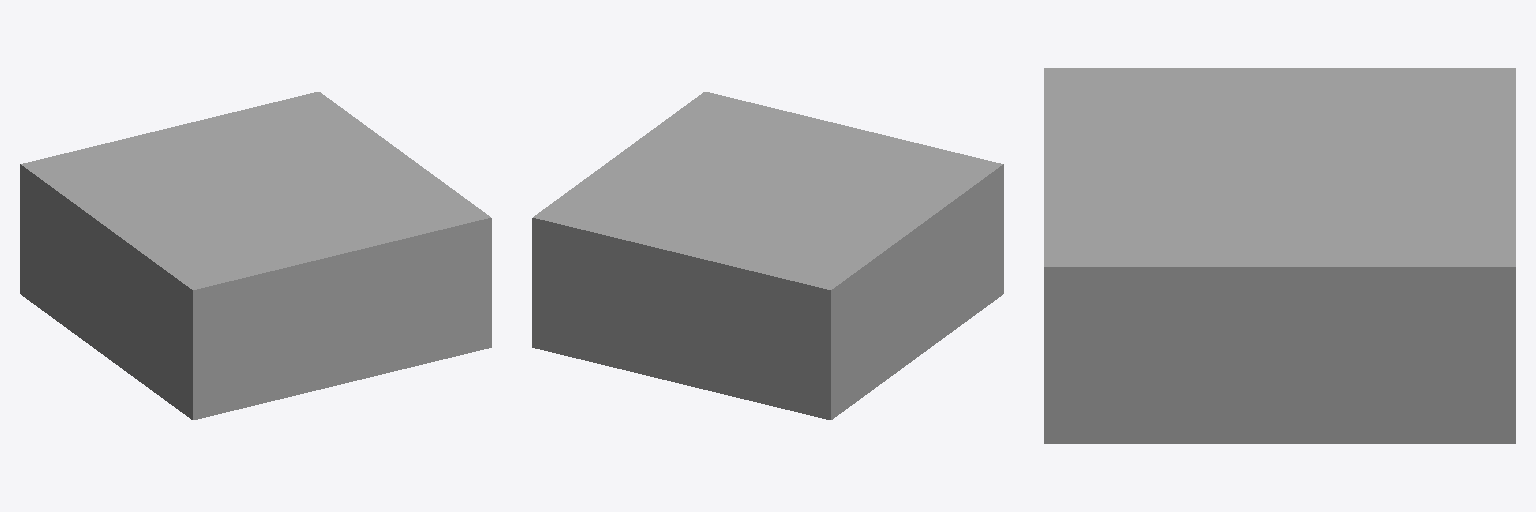
robot.urdf — anymal:
<?xml version="1.0" encoding="utf-8"?>
<!-- =================================================================================== -->
<!--   Copyright 2020 ANYbotics, https://www.anybotics.com                               -->
<!-- =================================================================================== -->
<!-- This file contains the description of the ANYmal C robot. -->
<robot name="anymal">
    <!-- Base link -->
    <link name="base">
        <visual>
            <origin rpy="0 0 0" xyz="0 0 0"/>
            <geometry>
                <mesh filename="../meshes/base.dae" scale="1.0 1.0 1.0"/>
            </geometry>
        </visual>
        <collision>
            <origin rpy="0 1.57079632679 0" xyz="0 0 0"/>
            <geometry>
                <cylinder length="0.75" radius="0.1"/>
            </geometry>
        </collision>
        <inertial>
            <origin rpy="0 0 0" xyz="-0.018 -0.002 0.024"/>
            <mass value="6.222"/>
            <inertia ixx="0.017938806" ixy="0.00387963" ixz="0.001500772" iyy="0.370887745" iyz="6.8963e-05" izz="0.372497653"/>
        </inertial>
    </link>
    <!-- Fixed joint base topshell -->
    <joint name="base_top_shell" type="fixed">
        <parent link="base"/>
        <child link="top_shell"/>
        <origin rpy="0 0 0" xyz="0 0 0"/>
    </joint>
    <!-- Top shell link -->
    <link name="top_shell">
        <visual>
            <origin rpy="0 0 0" xyz="0 0 0"/>
            <geometry>
                <mesh filename="../meshes/top_shell.dae" scale="1.0 1.0 1.0"/>
            </geometry>
        </visual>
        <inertial>
            <origin rpy="0 0 0" xyz="-0.00777 -0.00013 0.06523"/>
            <mass value="0.534"/>
            <inertia ixx="0.00664789486" ixy="1.247923e-05" ixz="0.00053990097" iyy="0.02587392411" iyz="3.7614e-07" izz="0.03152303792"/>
        </inertial>
    </link>
    <!-- Fixed joint base topshell -->
    <joint name="base_bottom_shell" type="fixed">
        <parent link="base"/>
        <child link="bottom_shell"/>
        <origin rpy="0 0 0" xyz="0 0 0"/>
    </joint>
    <!-- Bottom shell link -->
    <link name="bottom_shell">
        <visual>
            <origin rpy="0 0 0" xyz="0 0 0"/>
            <geometry>
                <mesh filename="../meshes/bottom_shell.dae" scale="1.0 1.0 1.0"/>
            </geometry>
        </visual>
        <inertial>
            <origin rpy="0 0 0" xyz="-0.00333 1e-05 -0.07705"/>
            <mass value="1.15"/>
            <inertia ixx="0.00927353677" ixy="5.41222e-06" ixz="9.039821e-05" iyy="0.06134388239" iyz="2.3042e-07" izz="0.06853531465"/>
        </inertial>
    </link>
    <!-- Fixed joint base remote -->
    <joint name="base_remote" type="fixed">
        <parent link="base"/>
        <child link="remote"/>
        <origin rpy="0 0 0" xyz="0 0 0"/>
    </joint>
    <!-- Remote link -->
    <link name="remote">
        <visual>
            <origin rpy="0 0 0" xyz="0 0 0"/>
            <geometry>
                <mesh filename="../meshes/remote.dae" scale="1.0 1.0 1.0"/>
            </geometry>
        </visual>
        <inertial>
            <origin rpy="0 0 0" xyz="-0.171 0.002 0.096"/>
            <mass value="0.3262"/>
            <inertia ixx="0.000528486" ixy="4.547e-05" ixz="1.10327e-05" iyy="0.001165035" iyz="7.4e-07" izz="0.00124026"/>
        </inertial>
    </link>
    <!-- Fixed joint base handle -->
    <joint name="base_handle" type="fixed">
        <parent link="base"/>
        <child link="handle"/>
        <origin rpy="0 0 0" xyz="0 0 0"/>
    </joint>
    <!-- Handle link -->
    <link name="handle">
        <visual>
            <origin rpy="0 0 0" xyz="0 0 0"/>
            <geometry>
                <mesh filename="../meshes/handle.dae" scale="1.0 1.0 1.0"/>
            </geometry>
        </visual>
        <inertial>
            <origin rpy="0 0 0" xyz="0.37801 0.0 0.1372"/>
            <mass value="0.314"/>
            <inertia ixx="0.001525739" ixy="0.0" ixz="6.272e-05" iyy="0.00071584" iyz="1e-09" izz="0.001164779"/>
        </inertial>
    </link>
    <!-- Fixed joint base face -->
    <joint name="base_face_front" type="fixed">
        <parent link="base"/>
        <child link="face_front"/>
        <origin rpy="0 0 -0.0" xyz="0.4145 0 0"/>
    </joint>
    <!-- Shell link -->
    <link name="face_front">
        <visual>
            <origin rpy="0 0 0" xyz="0 0 0"/>
            <geometry>
                <mesh filename="../meshes/face.dae" scale="1.0 1.0 1.0"/>
            </geometry>
        </visual>
        <inertial>
            <origin rpy="0 0 0" xyz="0.042 -0.001 0.004"/>
            <mass value="0.73"/>
            <inertia ixx="0.005238611" ixy="1.7609e-05" ixz="7.2167e-05" iyy="0.002643098" iyz="1.9548e-05" izz="0.004325938"/>
        </inertial>
    </link>
    <!-- Camera joint -->
    <!-- Is located between the two back screw holes at ground level. -->
    <joint name="face_front_to_depth_camera_front_camera" type="fixed">
        <parent link="face_front"/>
        <child link="depth_camera_front_camera"/>
        <origin rpy="0.0 0.523598775598 0" xyz="0.04715 0.0 -0.0292"/>
    </joint>
    <!-- Camera link -->
    <link name="depth_camera_front_camera">
        <visual>
            <origin rpy="0 0 0" xyz="0.0 0.0 0.0"/>
            <geometry>
                <mesh filename="../meshes/depth_camera.dae" scale="1.0 1.0 1.0"/>
            </geometry>
        </visual>
        <inertial>
            <origin rpy="0 0 0" xyz="-0.021 -0.002 0.025"/>
            <mass value="0.16043"/>
            <inertia ixx="0.000637051" ixy="0.000484569" ixz="0.000424211" iyy="0.000929402" iyz="5.138e-06" izz="0.000484569"/>
        </inertial>
    </link>
    <!-- Camera parent joint -->
    <!-- Frame lies on the left ir camera according to any_realsense2_camera urdf. -->
    <joint name="depth_camera_front_camera_to_camera_parent" type="fixed">
        <parent link="depth_camera_front_camera"/>
        <child link="depth_camera_front_camera_parent"/>
        <origin rpy="0.0 0.0 0.0" xyz="0.0255 0.0175 0.0"/>
    </joint>
    <!-- Camera parent link -->
    <link name="depth_camera_front_camera_parent"/>
    <!-- Depth optical frame joint -->
    <joint name="depth_camera_front_camera_parent_to_depth_optical_frame" type="fixed">
        <parent link="depth_camera_front_camera_parent"/>
        <child link="depth_camera_front_depth_optical_frame"/>
        <origin rpy="-1.57079632679 0.0 -1.57079632679" xyz="0.0 0.0 0.0"/>
    </joint>
    <!-- Depth optical frame link -->
    <link name="depth_camera_front_depth_optical_frame"/>
    <!-- Camera color frame joint -->
    <joint name="depth_camera_front_camera_parent_to_color_frame" type="fixed">
        <parent link="depth_camera_front_camera_parent"/>
        <child link="depth_camera_front_color_frame"/>
        <origin rpy="0 0 0" xyz="0 0.015 0"/>
    </joint>
    <!-- Camera color frame link -->
    <link name="depth_camera_front_color_frame"/>
    <!-- Camera color optical joint -->
    <joint name="depth_camera_front_color_frame_to_color_optical_frame" type="fixed">
        <parent link="depth_camera_front_color_frame"/>
        <child link="depth_camera_front_color_optical_frame"/>
        <origin rpy="-1.57079632679 0.0 -1.57079632679" xyz="0.0 0.0 0.0"/>
    </joint>
    <!-- Camera color optical link -->
    <link name="depth_camera_front_color_optical_frame"/>
    <!-- Camera joint -->
    <!-- Is located in the center of the mounting points. -->
    <joint name="face_front_to_wide_angle_camera_front_camera" type="fixed">
        <parent link="face_front"/>
        <child link="wide_angle_camera_front_camera"/>
        <origin rpy="0 0 0" xyz="0.09850 0.0 0.01497"/>
    </joint>
    <!-- Camera link -->
    <link name="wide_angle_camera_front_camera">
        <visual>
            <origin rpy="0 0 0" xyz="0.0 0.0 0.0"/>
            <geometry>
                <mesh filename="../meshes/wide_angle_camera.dae" scale="1.0 1.0 1.0"/>
            </geometry>
        </visual>
        <inertial>
            <origin rpy="0 0 0" xyz="-0.053 -0.001 0.025"/>
            <mass value="0.287"/>
            <inertia ixx="0.000559232" ixy="1.6875e-05" ixz="0.000423761" iyy="0.000946504" iyz="1.3234e-07" izz="0.000493052"/>
        </inertial>
    </link>
    <!-- Camera parent joint -->
    <joint name="wide_angle_camera_front_camera_to_camera_parent" type="fixed">
        <parent link="wide_angle_camera_front_camera"/>
        <child link="wide_angle_camera_front_camera_parent"/>
        <origin rpy="-1.57079632679 0.0 -1.57079632679" xyz="0.0 0.0 0.0"/>
    </joint>
    <!-- Camera parent link -->
    <link name="wide_angle_camera_front_camera_parent"/>
    <!-- Fixed joint base face -->
    <joint name="base_face_rear" type="fixed">
        <parent link="base"/>
        <child link="face_rear"/>
        <origin rpy="0 0 3.14159265359" xyz="-0.4145 0 0"/>
    </joint>
    <!-- Shell link -->
    <link name="face_rear">
        <visual>
            <origin rpy="0 0 0" xyz="0 0 0"/>
            <geometry>
                <mesh filename="../meshes/face.dae" scale="1.0 1.0 1.0"/>
            </geometry>
        </visual>
        <inertial>
            <origin rpy="0 0 0" xyz="0.042 -0.001 0.004"/>
            <mass value="0.73"/>
            <inertia ixx="0.005238611" ixy="1.7609e-05" ixz="7.2167e-05" iyy="0.002643098" iyz="1.9548e-05" izz="0.004325938"/>
        </inertial>
    </link>
    <!-- Camera joint -->
    <!-- Is located between the two back screw holes at ground level. -->
    <joint name="face_rear_to_depth_camera_rear_camera" type="fixed">
        <parent link="face_rear"/>
        <child link="depth_camera_rear_camera"/>
        <origin rpy="0.0 0.523598775598 0" xyz="0.04715 0.0 -0.0292"/>
    </joint>
    <!-- Camera link -->
    <link name="depth_camera_rear_camera">
        <visual>
            <origin rpy="0 0 0" xyz="0.0 0.0 0.0"/>
            <geometry>
                <mesh filename="../meshes/depth_camera.dae" scale="1.0 1.0 1.0"/>
            </geometry>
        </visual>
        <inertial>
            <origin rpy="0 0 0" xyz="-0.021 -0.002 0.025"/>
            <mass value="0.16043"/>
            <inertia ixx="0.000637051" ixy="0.000484569" ixz="0.000424211" iyy="0.000929402" iyz="5.138e-06" izz="0.000484569"/>
        </inertial>
    </link>
    <!-- Camera parent joint -->
    <!-- Frame lies on the left ir camera according to any_realsense2_camera urdf. -->
    <joint name="depth_camera_rear_camera_to_camera_parent" type="fixed">
        <parent link="depth_camera_rear_camera"/>
        <child link="depth_camera_rear_camera_parent"/>
        <origin rpy="0.0 0.0 0.0" xyz="0.0255 0.0175 0.0"/>
    </joint>
    <!-- Camera parent link -->
    <link name="depth_camera_rear_camera_parent"/>
    <!-- Depth optical frame joint -->
    <joint name="depth_camera_rear_camera_parent_to_depth_optical_frame" type="fixed">
        <parent link="depth_camera_rear_camera_parent"/>
        <child link="depth_camera_rear_depth_optical_frame"/>
        <origin rpy="-1.57079632679 0.0 -1.57079632679" xyz="0.0 0.0 0.0"/>
    </joint>
    <!-- Depth optical frame link -->
    <link name="depth_camera_rear_depth_optical_frame"/>
    <!-- Camera color frame joint -->
    <joint name="depth_camera_rear_camera_parent_to_color_frame" type="fixed">
        <parent link="depth_camera_rear_camera_parent"/>
        <child link="depth_camera_rear_color_frame"/>
        <origin rpy="0 0 0" xyz="0 0.015 0"/>
    </joint>
    <!-- Camera color frame link -->
    <link name="depth_camera_rear_color_frame"/>
    <!-- Camera color optical joint -->
    <joint name="depth_camera_rear_color_frame_to_color_optical_frame" type="fixed">
        <parent link="depth_camera_rear_color_frame"/>
        <child link="depth_camera_rear_color_optical_frame"/>
        <origin rpy="-1.57079632679 0.0 -1.57079632679" xyz="0.0 0.0 0.0"/>
    </joint>
    <!-- Camera color optical link -->
    <link name="depth_camera_rear_color_optical_frame"/>
    <!-- Camera joint -->
    <!-- Is located in the center of the mounting points. -->
    <joint name="face_rear_to_wide_angle_camera_rear_camera" type="fixed">
        <parent link="face_rear"/>
        <child link="wide_angle_camera_rear_camera"/>
        <origin rpy="0 0 0" xyz="0.09850 0.0 0.01497"/>
    </joint>
    <!-- Camera link -->
    <link name="wide_angle_camera_rear_camera">
        <visual>
            <origin rpy="0 0 0" xyz="0.0 0.0 0.0"/>
            <geometry>
                <mesh filename="../meshes/wide_angle_camera.dae" scale="1.0 1.0 1.0"/>
            </geometry>
        </visual>
        <inertial>
            <origin rpy="0 0 0" xyz="-0.053 -0.001 0.025"/>
            <mass value="0.287"/>
            <inertia ixx="0.000559232" ixy="1.6875e-05" ixz="0.000423761" iyy="0.000946504" iyz="1.3234e-07" izz="0.000493052"/>
        </inertial>
    </link>
    <!-- Camera parent joint -->
    <joint name="wide_angle_camera_rear_camera_to_camera_parent" type="fixed">
        <parent link="wide_angle_camera_rear_camera"/>
        <child link="wide_angle_camera_rear_camera_parent"/>
        <origin rpy="-1.57079632679 0.0 -1.57079632679" xyz="0.0 0.0 0.0"/>
    </joint>
    <!-- Camera parent link -->
    <link name="wide_angle_camera_rear_camera_parent"/>
    <!-- Fixed joint base battery -->
    <joint name="base_battery" type="fixed">
        <parent link="base"/>
        <child link="battery"/>
        <origin rpy="0 0 0" xyz="0 0 0"/>
    </joint>
    <!-- Shell link -->
    <link name="battery">
        <visual>
            <origin rpy="0 0 0" xyz="0 0 0"/>
            <geometry>
                <mesh filename="../meshes/battery.dae" scale="1.0 1.0 1.0"/>
            </geometry>
        </visual>
        <inertial>
            <origin rpy="0 0 0" xyz="-0.00067 -0.00023 -0.03362"/>
            <mass value="5.53425"/>
            <inertia ixx="0.00749474794" ixy="0.00016686282" ixz="7.82763e-05" iyy="0.0722338913" iyz="1.42902e-06" izz="0.07482717535"/>
        </inertial>
    </link>
    <!-- Fixed joint to add docking  -->
    <joint name="base_to_docking_hatch_cover" type="fixed">
        <parent link="base"/>
        <child link="docking_hatch_cover"/>
        <origin rpy="0 0 0" xyz="0.343 0.0 -0.07"/>
    </joint>
    <!-- Hatch cover link -->
    <link name="docking_hatch_cover">
        <!--  TODO(fgiraldez): add visual    -->
        <inertial>
            <origin rpy="0 0 0" xyz="-0.003 0.0 0.005"/>
            <mass value="0.065"/>
            <inertia ixx="0.00063283" ixy="0.0" ixz="3.45e-07" iyy="0.00110971" iyz="0.0" izz="0.00171883"/>
        </inertial>
    </link>
    <link name="imu_link">
        <visual>
            <origin rpy="0 0 0" xyz="0 0 0.005"/>
            <geometry>
                <box size="0.024 0.024 0.01"/>
            </geometry>
            <material name="orange"/>
        </visual>
        <inertial>
            <mass value="0.01"/>
            <origin xyz="0 0 0"/>
            <inertia ixx="5.63333333333e-07" ixy="0.0" ixz="0.0" iyy="9.6e-07" iyz="0.0" izz="5.63333333333e-07"/>
        </inertial>
    </link>
    <joint name="imu_joint" type="fixed">
        <parent link="base"/>
        <child link="imu_link"/>
        <origin rpy="0.0 0.0 1.57079632679" xyz="0.2488 0.00835 0.04628"/>
    </joint>
    <!-- Camera joint -->
    <!-- Is located between the two back screw holes at ground level. -->
    <joint name="base_to_depth_camera_left_camera" type="fixed">
        <parent link="base"/>
        <child link="depth_camera_left_camera"/>
        <origin rpy="0.0 0.523598775598 1.57079632679" xyz="0.0 0.07646 0.02905"/>
    </joint>
    <!-- Camera link -->
    <link name="depth_camera_left_camera">
        <visual>
            <origin rpy="0 0 0" xyz="0.0 0.0 0.0"/>
            <geometry>
                <mesh filename="../meshes/depth_camera.dae" scale="1.0 1.0 1.0"/>
            </geometry>
        </visual>
        <inertial>
            <origin rpy="0 0 0" xyz="-0.021 -0.002 0.025"/>
            <mass value="0.16043"/>
            <inertia ixx="0.000637051" ixy="0.000484569" ixz="0.000424211" iyy="0.000929402" iyz="5.138e-06" izz="0.000484569"/>
        </inertial>
    </link>
    <!-- Camera parent joint -->
    <!-- Frame lies on the left ir camera according to any_realsense2_camera urdf. -->
    <joint name="depth_camera_left_camera_to_camera_parent" type="fixed">
        <parent link="depth_camera_left_camera"/>
        <child link="depth_camera_left_camera_parent"/>
        <origin rpy="0.0 0.0 0.0" xyz="0.0255 0.0175 0.0"/>
    </joint>
    <!-- Camera parent link -->
    <link name="depth_camera_left_camera_parent"/>
    <!-- Depth optical frame joint -->
    <joint name="depth_camera_left_camera_parent_to_depth_optical_frame" type="fixed">
        <parent link="depth_camera_left_camera_parent"/>
        <child link="depth_camera_left_depth_optical_frame"/>
        <origin rpy="-1.57079632679 0.0 -1.57079632679" xyz="0.0 0.0 0.0"/>
    </joint>
    <!-- Depth optical frame link -->
    <link name="depth_camera_left_depth_optical_frame"/>
    <!-- Camera color frame joint -->
    <joint name="depth_camera_left_camera_parent_to_color_frame" type="fixed">
        <parent link="depth_camera_left_camera_parent"/>
        <child link="depth_camera_left_color_frame"/>
        <origin rpy="0 0 0" xyz="0 0.015 0"/>
    </joint>
    <!-- Camera color frame link -->
    <link name="depth_camera_left_color_frame"/>
    <!-- Camera color optical joint -->
    <joint name="depth_camera_left_color_frame_to_color_optical_frame" type="fixed">
        <parent link="depth_camera_left_color_frame"/>
        <child link="depth_camera_left_color_optical_frame"/>
        <origin rpy="-1.57079632679 0.0 -1.57079632679" xyz="0.0 0.0 0.0"/>
    </joint>
    <!-- Camera color optical link -->
    <link name="depth_camera_left_color_optical_frame"/>
    <!-- Camera joint -->
    <!-- Is located between the two back screw holes at ground level. -->
    <joint name="base_to_depth_camera_right_camera" type="fixed">
        <parent link="base"/>
        <child link="depth_camera_right_camera"/>
        <origin rpy="0.0 0.523598775598 -1.57079632679" xyz="0.0 -0.07646 0.02905"/>
    </joint>
    <!-- Camera link -->
    <link name="depth_camera_right_camera">
        <visual>
            <origin rpy="0 0 0" xyz="0.0 0.0 0.0"/>
            <geometry>
                <mesh filename="../meshes/depth_camera.dae" scale="1.0 1.0 1.0"/>
            </geometry>
        </visual>
        <inertial>
            <origin rpy="0 0 0" xyz="-0.021 -0.002 0.025"/>
            <mass value="0.16043"/>
            <inertia ixx="0.000637051" ixy="0.000484569" ixz="0.000424211" iyy="0.000929402" iyz="5.138e-06" izz="0.000484569"/>
        </inertial>
    </link>
    <!-- Camera parent joint -->
    <!-- Frame lies on the left ir camera according to any_realsense2_camera urdf. -->
    <joint name="depth_camera_right_camera_to_camera_parent" type="fixed">
        <parent link="depth_camera_right_camera"/>
        <child link="depth_camera_right_camera_parent"/>
        <origin rpy="0.0 0.0 0.0" xyz="0.0255 0.0175 0.0"/>
    </joint>
    <!-- Camera parent link -->
    <link name="depth_camera_right_camera_parent"/>
    <!-- Depth optical frame joint -->
    <joint name="depth_camera_right_camera_parent_to_depth_optical_frame" type="fixed">
        <parent link="depth_camera_right_camera_parent"/>
        <child link="depth_camera_right_depth_optical_frame"/>
        <origin rpy="-1.57079632679 0.0 -1.57079632679" xyz="0.0 0.0 0.0"/>
    </joint>
    <!-- Depth optical frame link -->
    <link name="depth_camera_right_depth_optical_frame"/>
    <!-- Camera color frame joint -->
    <joint name="depth_camera_right_camera_parent_to_color_frame" type="fixed">
        <parent link="depth_camera_right_camera_parent"/>
        <child link="depth_camera_right_color_frame"/>
        <origin rpy="0 0 0" xyz="0 0.015 0"/>
    </joint>
    <!-- Camera color frame link -->
    <link name="depth_camera_right_color_frame"/>
    <!-- Camera color optical joint -->
    <joint name="depth_camera_right_color_frame_to_color_optical_frame" type="fixed">
        <parent link="depth_camera_right_color_frame"/>
        <child link="depth_camera_right_color_optical_frame"/>
        <origin rpy="-1.57079632679 0.0 -1.57079632679" xyz="0.0 0.0 0.0"/>
    </joint>
    <!-- Camera color optical link -->
    <link name="depth_camera_right_color_optical_frame"/>
    <!-- parent to cage joint, located between mounting plate on trunk and the cage -->
    <joint name="base_to_lidar_cage" type="fixed">
        <parent link="base"/>
        <child link="lidar_cage"/>
        <origin rpy="0 0 0" xyz="-0.364 0.0 0.0735"/>
    </joint>
    <!-- Velodyne cage link -->
    <link name="lidar_cage">
        <visual>
            <origin rpy="0.0 0.0 0.0" xyz="0.0 0.0 0.0"/>
            <geometry>
                <mesh filename="../meshes/lidar_cage.dae" scale="1.0 1.0 1.0"/>
            </geometry>
        </visual>
        <inertial>
            <origin rpy="0.0 0.0 0.0" xyz="0.002 0.0 0.099"/>
            <mass value="0.545"/>
            <inertia ixx="0.003156254" ixy="0.0" ixz="1.0992e-05" iyy="0.002357216" iyz="0.0" izz="0.001326455"/>
        </inertial>
    </link>
    <!-- parent to sensor joint -->
    <joint name="lidar_cage_to_lidar" type="fixed">
        <parent link="lidar_cage"/>
        <child link="lidar"/>
        <origin rpy="0.0 0.0 -1.57079632679" xyz="0.0 0.0 0.0687"/>
    </joint>
    <!-- Velodyne sensor link -->
    <link name="lidar">
        <inertial>
            <origin rpy="0.0 0.0 0.0" xyz="-0.012 0.001 -0.008"/>
            <mass value="0.695"/>
            <inertia ixx="0.000846765" ixy="6.9565e-05" ixz="0.00027111" iyy="0.001367583" iyz="5.8984e-05" izz="0.001363673"/>
        </inertial>
        <visual>
            <origin xyz="0 0 0"/>
            <geometry>
                <mesh filename="../meshes/lidar.dae"/>
            </geometry>
        </visual>
    </link>
</robot>

--- What the picture shows (computed from the rendered views, not written in the file) ---
Views: 3 orthographic renders of the robot side by side, from view 1: azimuth 30°, elevation 25°; view 2: azimuth 150°, elevation 25°; view 3: azimuth 270°, elevation 25°.
Model anymal with 36 links and 35 joints (35 fixed), rooted at base, posed every joint at zero.
Visible links, largest first — view 1: imu_link; view 2: imu_link; view 3: imu_link.
Link boxes in pixels (bbox=[...]): imu_link: bbox=[20, 92, 491, 419]; imu_link: bbox=[532, 92, 1003, 419]; imu_link: bbox=[1044, 68, 1515, 443].
Bounding box of the posed robot: 0.024 × 0.024 × 0.01 m (x, y, z).
0 mesh visuals loaded from 11 distinct referenced files (none loaded); not drawn: 16 (reference not matched to a file when rendering).